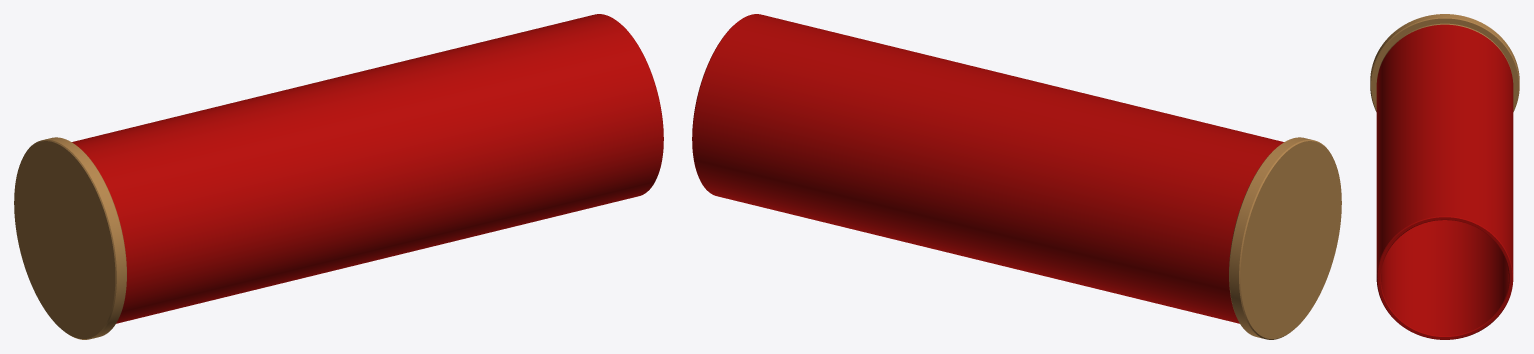
File: case-12_h_gauge_h_00_h_buck.glb
The picture shows the model from 3 angles, left to right: view 1: azimuth 30°, elevation 25°; view 2: azimuth 150°, elevation 25°; view 3: azimuth 270°, elevation 25°; orthographic projection. The views are drawn at different scales.
Parts seen in each view (by area): view 1: cartridge:cartridge-model; view 2: cartridge:cartridge-model; view 3: cartridge:cartridge-model.
Boxes of the visible parts, <box> form: cartridge:cartridge-model: <box>14,14,663,339</box>; cartridge:cartridge-model: <box>692,14,1341,339</box>; cartridge:cartridge-model: <box>1370,14,1519,339</box>.
Size of the model in its own units: 0.0701 by 0.0225 by 0.0225.
